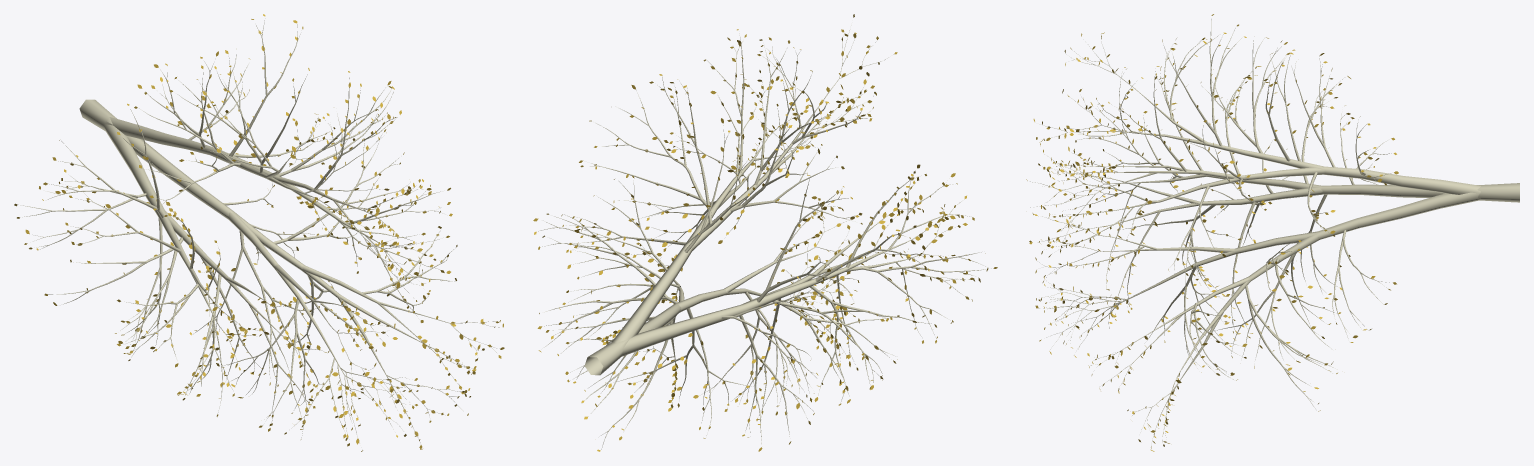
The model's file is birchTreeWithLeaves_high.glb.
The picture shows the model from 3 angles, left to right: view 1: azimuth 30°, elevation 25°; view 2: azimuth 150°, elevation 25°; view 3: azimuth 270°, elevation 25°; orthographic projection. The views are drawn at different scales.
Visible parts, largest first — view 1: birchTreeWithLeaves.001; view 2: birchTreeWithLeaves.001; view 3: birchTreeWithLeaves.001.
Part boxes in pixels (x1,y1,x2,y2): birchTreeWithLeaves.001: (14, 14, 504, 451); birchTreeWithLeaves.001: (533, 14, 997, 451); birchTreeWithLeaves.001: (1026, 14, 1519, 451).
Size of the model in its own units: 1.96 by 2 by 2.47.
